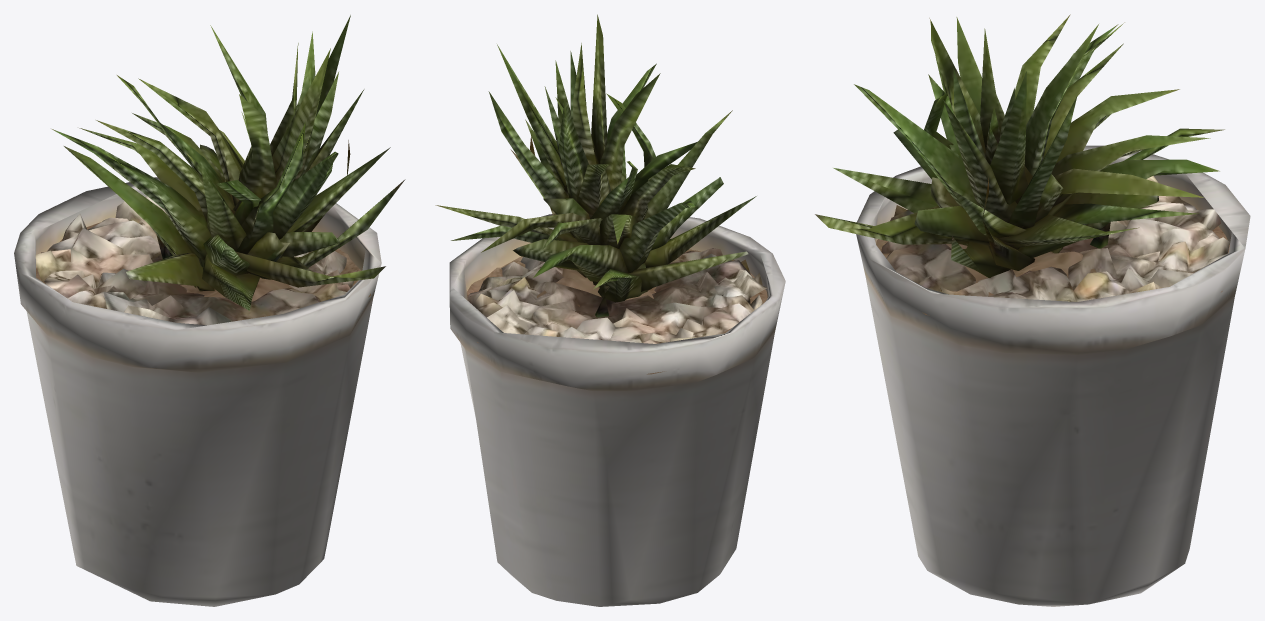
File: potted_plant_04.glb
3 renders of one model, left to right at view 1: azimuth 30°, elevation 25°; view 2: azimuth 150°, elevation 25°; view 3: azimuth 270°, elevation 25°, orthographic. The views are drawn at different scales.
Parts seen in each view (by area): view 1: potted_plant_04_ground; view 2: potted_plant_04_ground; view 3: potted_plant_04_ground.
Boxes of the visible parts, <box> form: potted_plant_04_ground: <box>14,15,405,606</box>; potted_plant_04_ground: <box>435,14,785,606</box>; potted_plant_04_ground: <box>815,14,1250,606</box>.
Bounding box in the file's own units: 0.1643 × 0.2672 × 0.1831.
Materials: 1 (1 with a texture image).
